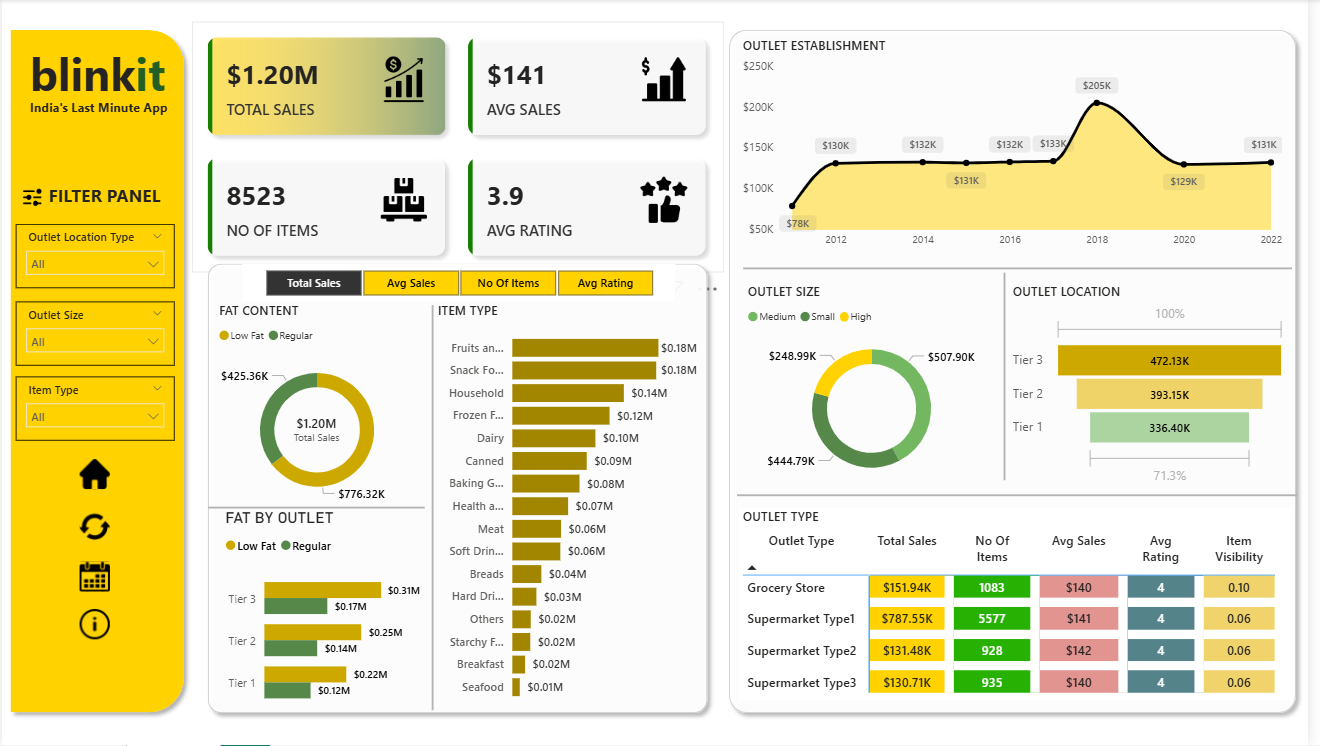

Layout of this report page (visuals, bound fields, positions):
{"tool":"powerbi","page":{"name":"Page 1","canvas":[1400,800],"ordinal":0},"visuals":[{"type":"shape","box":[0,24.3,204.1,750],"z":0},{"type":"textbox","box":[713.1,599.2,12.1,175.6],"z":1000},{"type":"textbox","box":[14.7,41.6,175.6,75.1],"z":2000},{"type":"textbox","box":[20.1,101.9,167.6,30.8],"z":3000},{"type":"cardVisual","fields":{"Data":["BlinkIT Grocery Data.Total Sales","BlinkIT Grocery Data.Avg Sales","BlinkIT Grocery Data.No Of Items","BlinkIT Grocery Data.Avg Rating"]},"box":[203.8,24.1,569.7,269.4],"z":4000},{"type":"shape","box":[211.8,274.8,553.6,500],"z":5000},{"type":"donutChart","title":"FAT CONTENT","fields":{"Y":["BlinkIT Grocery Data.Total Sales"],"Category":["BlinkIT Grocery Data.Item Fat Content"]},"box":[227.9,324.4,219.8,230.6],"z":6000},{"type":"slicer","fields":{"Values":["Metrics.Metrics"]},"box":[257.4,284.2,465.1,40.2],"z":7000},{"type":"cardVisual","fields":{"Data":["BlinkIT Grocery Data.Total Sales"]},"box":[286.9,422.3,101.9,77.7],"z":8000},{"type":"clusteredBarChart","title":"FAT BY OUTLET","fields":{"Y":["BlinkIT Grocery Data.Total Sales"],"Category":["BlinkIT Grocery Data.Outlet Location Type"],"Series":["BlinkIT Grocery Data.Item Fat Content"]},"box":[235.1,545.9,218.9,229.7],"z":9000},{"type":"shape","box":[221.2,536.2,231.9,18.8],"z":10000},{"type":"shape","box":[453.1,328.4,17.4,434.3],"z":11000},{"type":"clusteredBarChart","title":"ITEM TYPE","fields":{"Y":["BlinkIT Grocery Data.Total Sales"],"Category":["BlinkIT Grocery Data.Item Type"]},"box":[462.5,324.4,288.2,438.3],"z":12000},{"type":"shape","box":[770.8,24.1,626,750.7],"z":13000},{"type":"lineChart","title":"OUTLET ESTABLISHMENT","fields":{"Category":["BlinkIT Grocery Data.Outlet Establishment Year"],"Y":["BlinkIT Grocery Data.Total Sales"]},"box":[789.5,40.2,588.5,234.6],"z":14000},{"type":"shape","box":[794.9,284.2,588.5,9.4],"z":15000},{"type":"donutChart","title":"OUTLET SIZE","fields":{"Y":["BlinkIT Grocery Data.Total Sales"],"Category":["BlinkIT Grocery Data.Outlet Size"]},"box":[794.9,304.3,275,225],"z":16000},{"type":"shape","box":[1071.1,293.6,8,222.5],"z":17000},{"type":"funnel","title":"OUTLET LOCATION","fields":{"Category":["BlinkIT Grocery Data.Outlet Location Type"],"Y":["Sum(BlinkIT Grocery Data.Sales)"]},"box":[1079.1,304.3,303,221.2],"z":18000},{"type":"shape","box":[788.2,525.5,600.5,13.4],"z":19000},{"type":"pivotTable","title":"OUTLET TYPE","fields":{"Rows":["BlinkIT Grocery Data.Outlet Type"],"Values":["BlinkIT Grocery Data.Total Sales","BlinkIT Grocery Data.No Of Items","BlinkIT Grocery Data.Avg Sales","BlinkIT Grocery Data.Avg Rating","Avg(BlinkIT Grocery Data.Item Visibility)"]},"box":[789.2,545.9,594.6,206.8],"z":20000},{"type":"slicer","fields":{"Values":["BlinkIT Grocery Data.Outlet Location Type"]},"box":[14.9,241.9,170.3,68.9],"z":21000},{"type":"slicer","fields":{"Values":["BlinkIT Grocery Data.Outlet Size"]},"box":[14.9,324.3,170.3,68.9],"z":22000},{"type":"slicer","fields":{"Values":["BlinkIT Grocery Data.Item Type"]},"box":[14.9,405.4,170.3,68.9],"z":23000},{"type":"textbox","box":[14.9,193.2,170.3,36.5],"z":24000},{"type":"image","box":[0,197.3,64.9,31.1],"z":25000},{"type":"actionButton","box":[50,489.2,100,40.5],"z":26000},{"type":"actionButton","box":[50,545.9,100,40.5],"z":27000},{"type":"actionButton","box":[50,598.6,100,40.5],"z":28000},{"type":"actionButton","box":[50,650,100,40.5],"z":29000}]}

Visuals, with their boxes in screenshot pixels (x1, y1, x2, y2), scaled from the page's 1400x800 canvas onto the 1320x746 screenshot:
shape: 0/23/192/722
textbox: 672/559/684/723
textbox: 14/39/179/109
textbox: 19/95/177/124
cardVisual - BlinkIT Grocery Data.Total Sales x BlinkIT Grocery Data.Avg Sales: 192/22/729/274
shape: 200/256/722/723
"FAT CONTENT" donutChart: 215/303/422/518
slicer - Metrics.Metrics: 243/265/681/303
cardVisual - BlinkIT Grocery Data.Total Sales: 271/394/367/466
"FAT BY OUTLET" clusteredBarChart: 222/509/428/723
shape: 209/500/427/518
shape: 427/306/444/711
"ITEM TYPE" clusteredBarChart: 436/303/708/711
shape: 727/22/1317/723
"OUTLET ESTABLISHMENT" lineChart: 744/37/1299/256
shape: 749/265/1304/274
"OUTLET SIZE" donutChart: 749/284/1009/494
shape: 1010/274/1017/481
"OUTLET LOCATION" funnel: 1017/284/1303/490
shape: 743/490/1309/503
"OUTLET TYPE" pivotTable: 744/509/1305/702
slicer - BlinkIT Grocery Data.Outlet Location Type: 14/226/175/290
slicer - BlinkIT Grocery Data.Outlet Size: 14/302/175/367
slicer - BlinkIT Grocery Data.Item Type: 14/378/175/442
textbox: 14/180/175/214
image: 0/184/61/213
actionButton: 47/456/141/494
actionButton: 47/509/141/547
actionButton: 47/558/141/596
actionButton: 47/606/141/644
